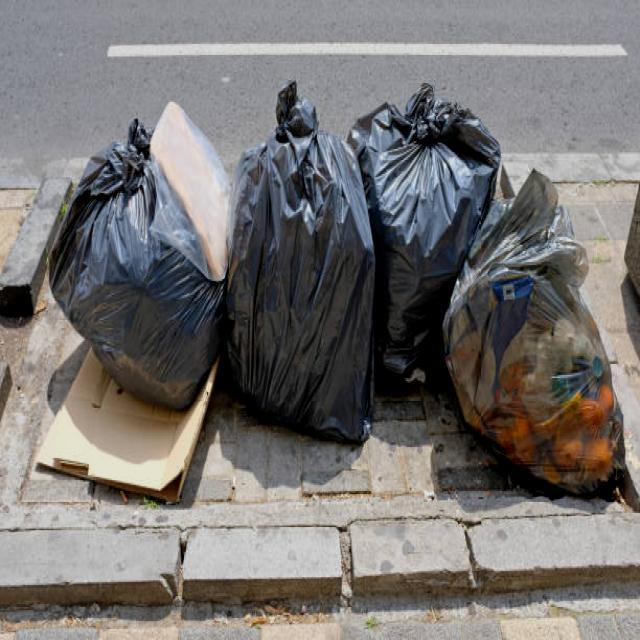high trash: (36, 84, 619, 496)
